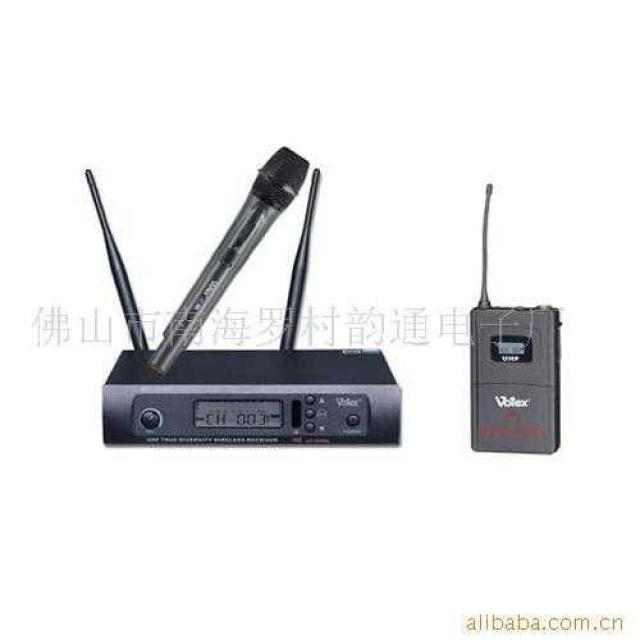microphone: (153, 150, 312, 368)
